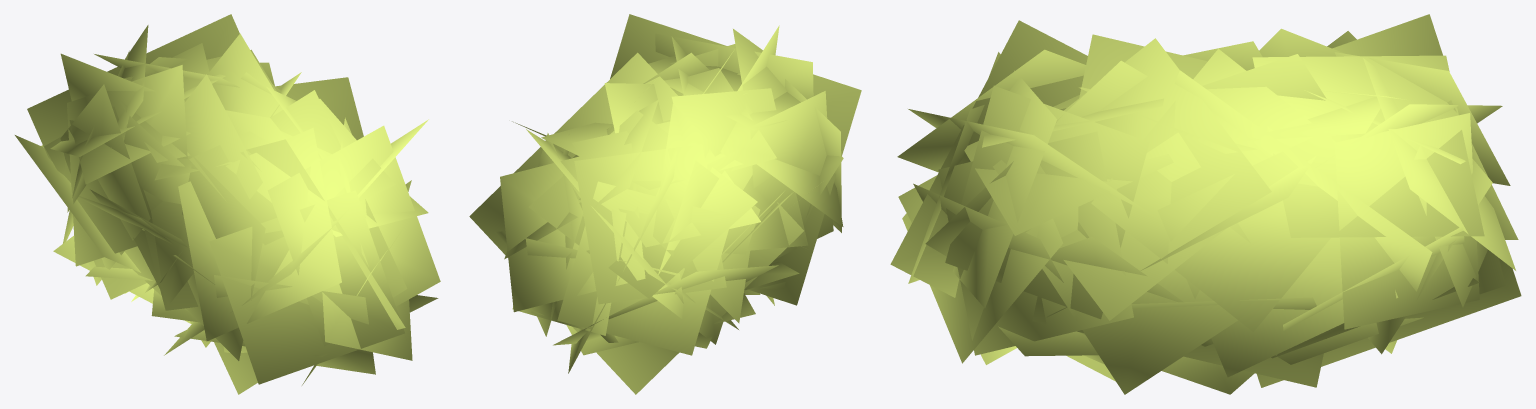
File: bush2.fbx
The picture shows the model from 3 angles, left to right: view 1: azimuth 30°, elevation 25°; view 2: azimuth 150°, elevation 25°; view 3: azimuth 270°, elevation 25°; orthographic projection. The views are drawn at different scales.
Visible parts, largest first — view 1: Bush; view 2: Bush; view 3: Bush.
Part boxes in pixels (x1,y1,x2,y2): Bush: (15, 14, 440, 394); Bush: (469, 14, 861, 394); Bush: (890, 14, 1521, 394).
Size of the model in its own units: 4.44 by 4.48 by 7.48.
